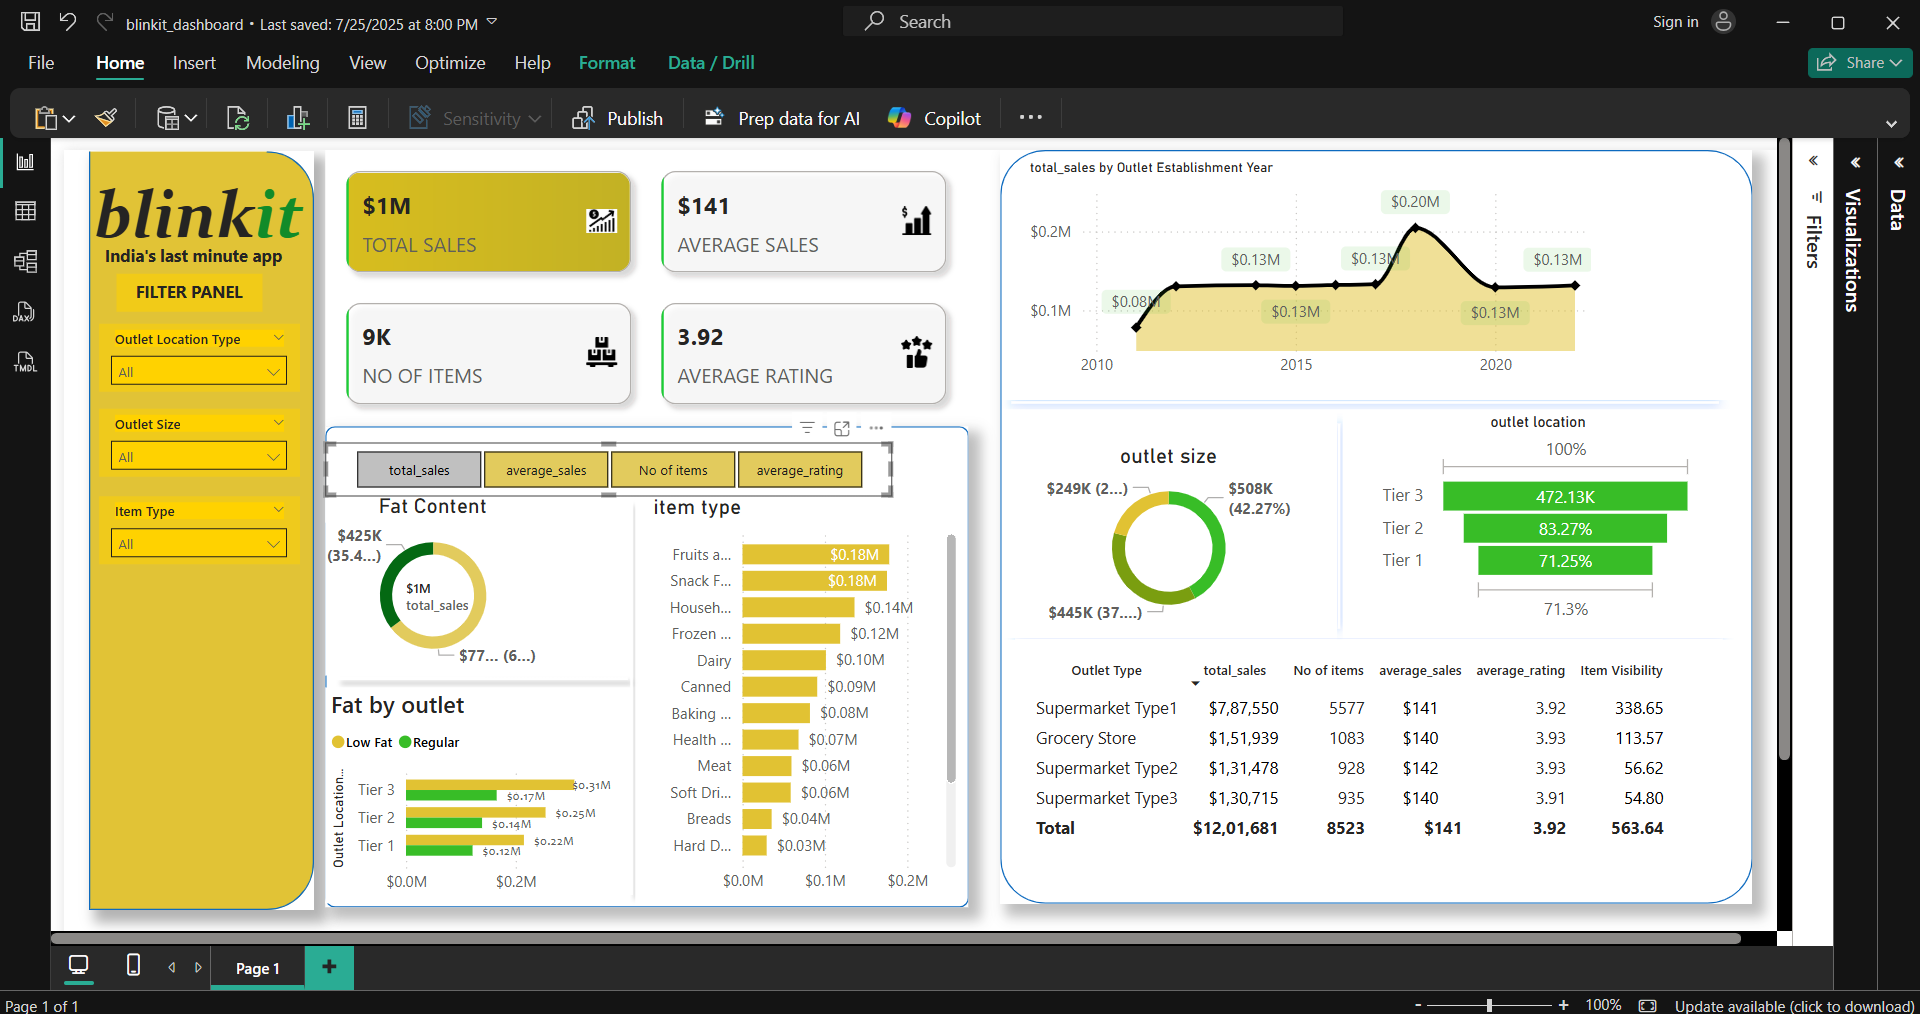

What the dashboard file says about the page in this screenshot:
{"tool":"powerbi","page":{"name":"Page 1","canvas":[1400,800],"ordinal":0},"visuals":[{"type":"shape","box":[20,1,180,607],"z":0},{"type":"textbox","box":[280,341.1,202.2,58.9],"z":1000},{"type":"textbox","box":[18.9,14.4,181.1,84.4],"z":2000},{"type":"textbox","box":[27.8,70,161.1,28.9],"z":3000},{"type":"cardVisual","fields":{"Data":["BlinkIT Grocery Data.total_sales","BlinkIT Grocery Data.average_sales","BlinkIT Grocery Data.No of items","BlinkIT Grocery Data.average_rating"]},"box":[209,0,515,221],"z":4000},{"type":"shape","box":[209,221,515,385],"z":5000},{"type":"donutChart","title":"Fat Content","fields":{"Y":["BlinkIT Grocery Data.total_sales"],"Category":["BlinkIT Grocery Data.Item Fat Content"]},"box":[209,274,173,146],"z":6000},{"type":"slicer","fields":{"Values":["Metrics.Metrics"]},"box":[209,234,454,43],"z":7000},{"type":"cardVisual","fields":{"Data":["BlinkIT Grocery Data.total_sales"]},"box":[257,326,86,56],"z":8000},{"type":"clusteredBarChart","title":"Fat by outlet","fields":{"Y":["BlinkIT Grocery Data.total_sales"],"Category":["BlinkIT Grocery Data.Outlet Location Type"],"Series":["BlinkIT Grocery Data.Item Fat Content"]},"box":[209,430,251,173],"z":9000},{"type":"shape","box":[209,414,251,16],"z":10000},{"type":"shape","box":[445,272,12,333],"z":11000},{"type":"barChart","title":"item type","fields":{"Y":["BlinkIT Grocery Data.total_sales"],"Category":["BlinkIT Grocery Data.Item Type"]},"box":[467,275,252,328],"z":12000},{"type":"shape","box":[749,0,602,603],"z":13000},{"type":"lineChart","fields":{"Category":["BlinkIT Grocery Data.Outlet Establishment Year"],"Y":["BlinkIT Grocery Data.total_sales"]},"box":[768,7,459,183],"z":14000},{"type":"donutChart","title":"outlet size","fields":{"Y":["BlinkIT Grocery Data.total_sales"],"Category":["BlinkIT Grocery Data.Outlet Size"]},"box":[780,234,208,150],"z":15000},{"type":"funnel","title":"outlet location","fields":{"Y":["Sum(BlinkIT Grocery Data.Sales)"],"Category":["BlinkIT Grocery Data.Outlet Location Type"]},"box":[1050,210,259,172],"z":16000},{"type":"pivotTable","fields":{"Rows":["BlinkIT Grocery Data.Outlet Type"],"Values":["BlinkIT Grocery Data.total_sales","BlinkIT Grocery Data.No of items","BlinkIT Grocery Data.average_sales","BlinkIT Grocery Data.average_rating","Sum(BlinkIT Grocery Data.Item Visibility)"]},"box":[768,400,551,185],"z":17000},{"type":"shape","box":[749,193,584,14],"z":18000},{"type":"shape","box":[752,383,584,9],"z":19000},{"type":"slicer","fields":{"Values":["BlinkIT Grocery Data.Outlet Location Type"]},"box":[28,139,161,54],"z":19001},{"type":"slicer","fields":{"Values":["BlinkIT Grocery Data.Outlet Size"]},"box":[28,207,161,54],"z":19002},{"type":"slicer","fields":{"Values":["BlinkIT Grocery Data.Item Type"]},"box":[28,277,161,54],"z":19003},{"type":"shape","box":[1011,210,12,182],"z":19004},{"type":"textbox","box":[42,99,117,30],"z":19005}]}

Visuals, with their boxes on the page's 1400x800 design canvas (x1, y1, x2, y2). These are canvas units, not pixel positions in the 1920x1014 screenshot, which may show the page scaled, cropped or inside an application window:
shape: (20,1,200,608)
textbox: (280,341,482,400)
textbox: (19,14,200,99)
textbox: (28,70,189,99)
cardVisual - BlinkIT Grocery Data.total_sales x BlinkIT Grocery Data.average_sales: (209,0,724,221)
shape: (209,221,724,606)
"Fat Content" donutChart: (209,274,382,420)
slicer - Metrics.Metrics: (209,234,663,277)
cardVisual - BlinkIT Grocery Data.total_sales: (257,326,343,382)
"Fat by outlet" clusteredBarChart: (209,430,460,603)
shape: (209,414,460,430)
shape: (445,272,457,605)
"item type" barChart: (467,275,719,603)
shape: (749,0,1351,603)
lineChart - BlinkIT Grocery Data.Outlet Establishment Year x BlinkIT Grocery Data.total_sales: (768,7,1227,190)
"outlet size" donutChart: (780,234,988,384)
"outlet location" funnel: (1050,210,1309,382)
pivotTable - BlinkIT Grocery Data.Outlet Type x BlinkIT Grocery Data.total_sales: (768,400,1319,585)
shape: (749,193,1333,207)
shape: (752,383,1336,392)
slicer - BlinkIT Grocery Data.Outlet Location Type: (28,139,189,193)
slicer - BlinkIT Grocery Data.Outlet Size: (28,207,189,261)
slicer - BlinkIT Grocery Data.Item Type: (28,277,189,331)
shape: (1011,210,1023,392)
textbox: (42,99,159,129)
